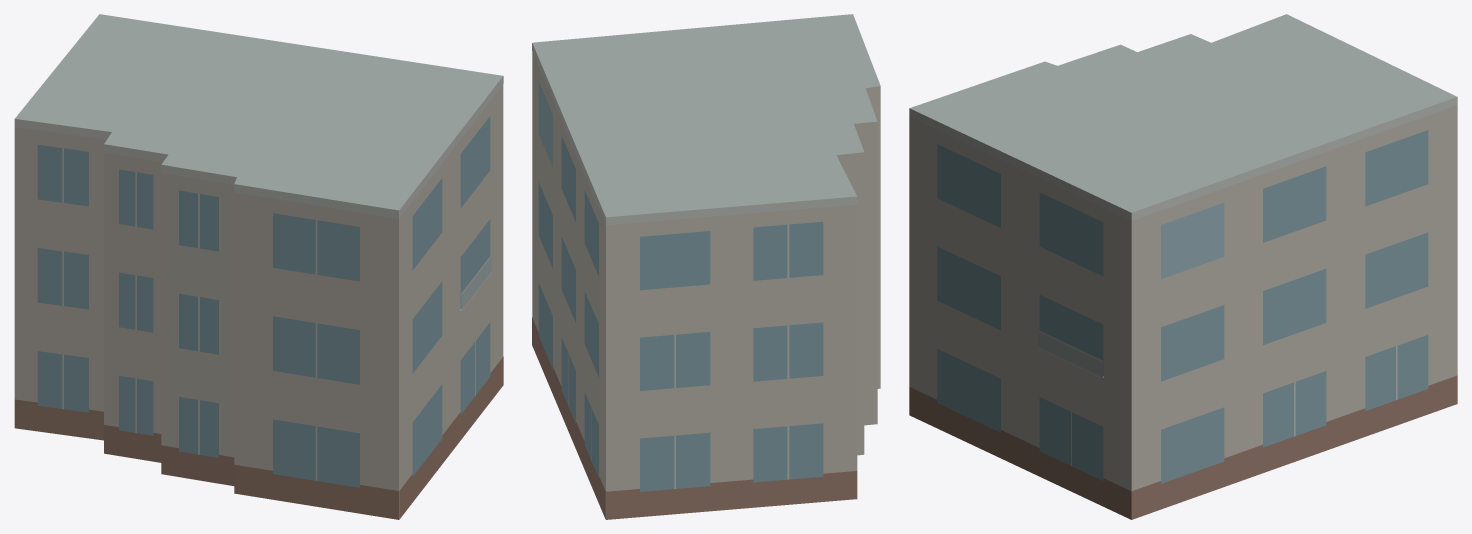
Rendered from survey-upis-32689394.glb.
3 renders of one model, left to right at view 1: azimuth 30°, elevation 25°; view 2: azimuth 150°, elevation 25°; view 3: azimuth 270°, elevation 25°, orthographic. The views are drawn at different scales.
Visible parts, largest first — view 1: survey-upis-32689394.tmp; view 2: survey-upis-32689394.tmp; view 3: survey-upis-32689394.tmp.
Part boxes in pixels (left/top/right/bottom): survey-upis-32689394.tmp: left=14, top=14, right=503, bottom=519; survey-upis-32689394.tmp: left=532, top=14, right=880, bottom=519; survey-upis-32689394.tmp: left=909, top=14, right=1457, bottom=519.
Bounding box in the file's own units: 12.71 × 9.15 × 14.81.
